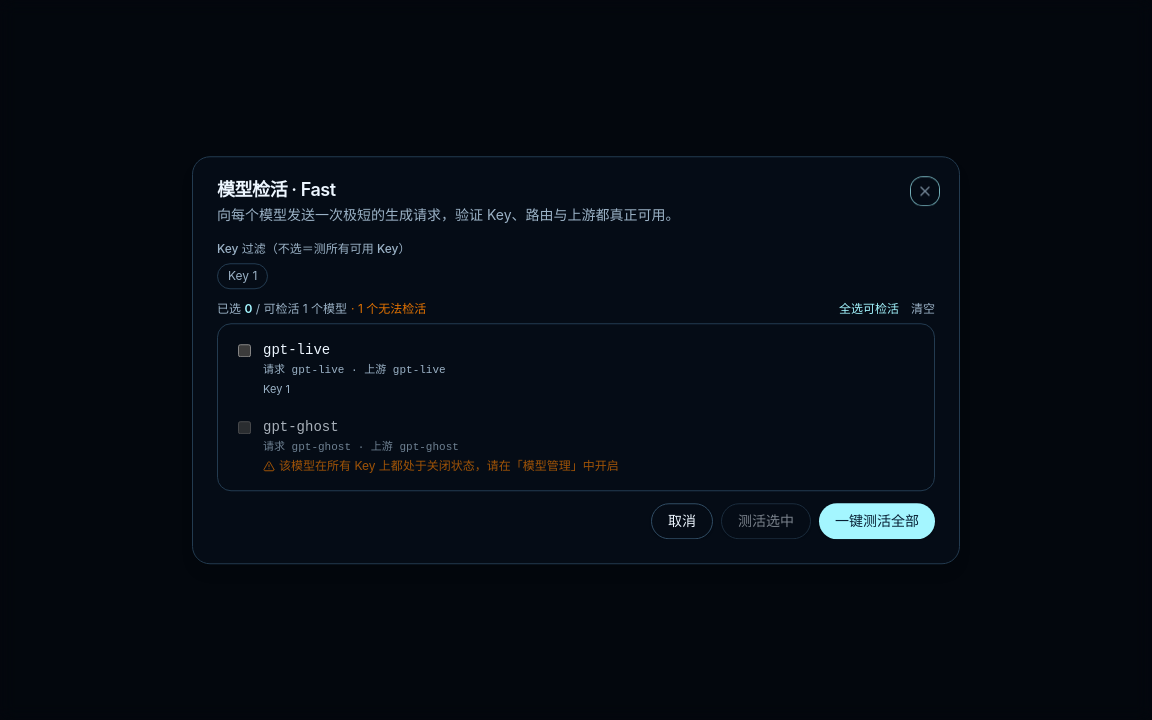
Test: HealthCheckDialog › only sends probeable routes and the keys that serve them
The width and height of the screenshot is (1152, 720).
Expected: the text "gpt-live" is shown, [263,340,330,360]
Click the button "Key 1" at (243, 276), box [217,263,268,289]
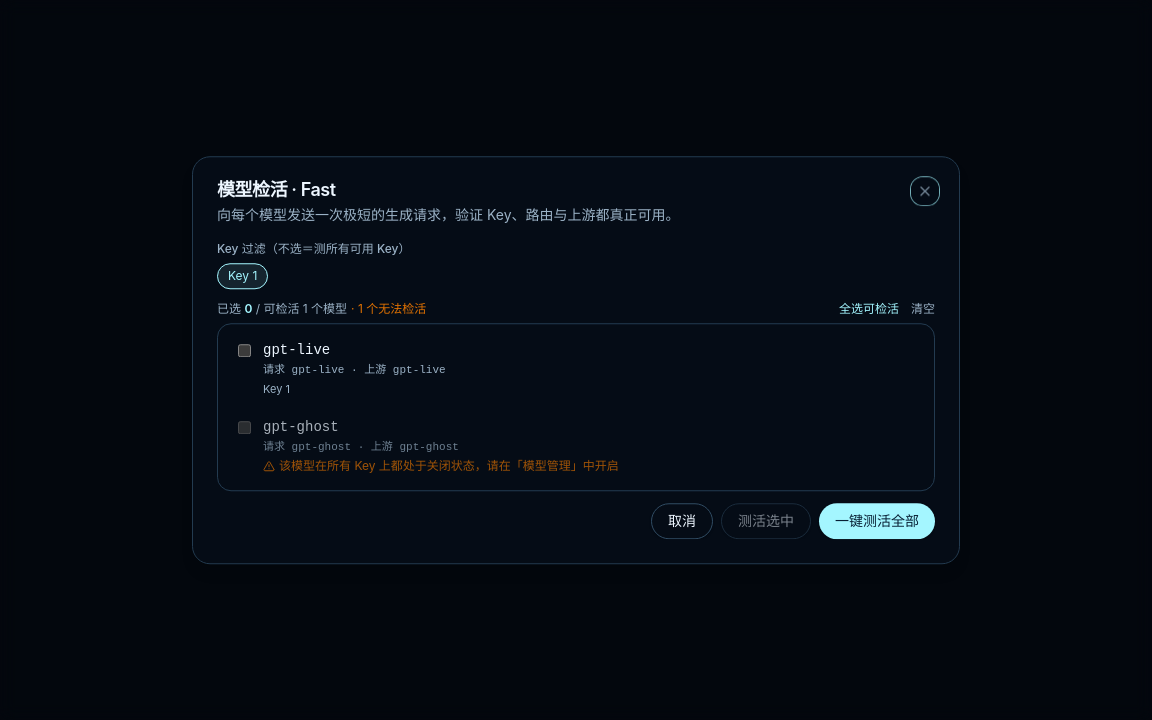
Click the button "全选可检活" at (869, 309), box [839,301,899,317]
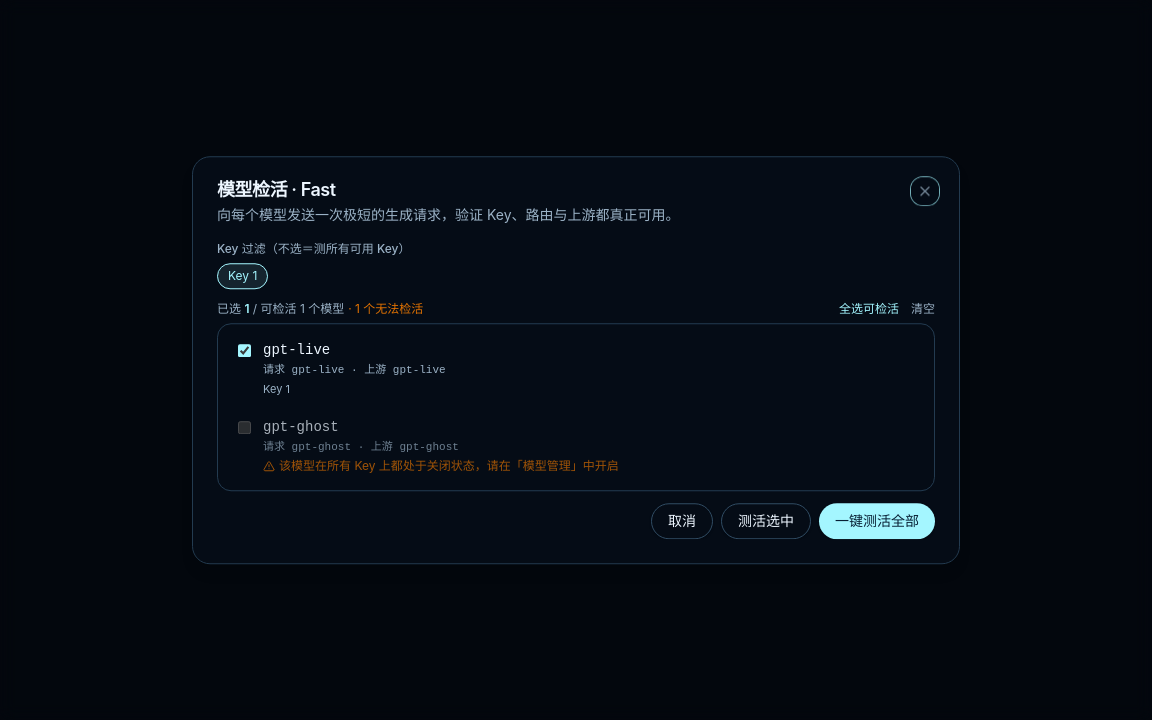
Click the button "测活选中" at (766, 521), box [721,503,811,539]
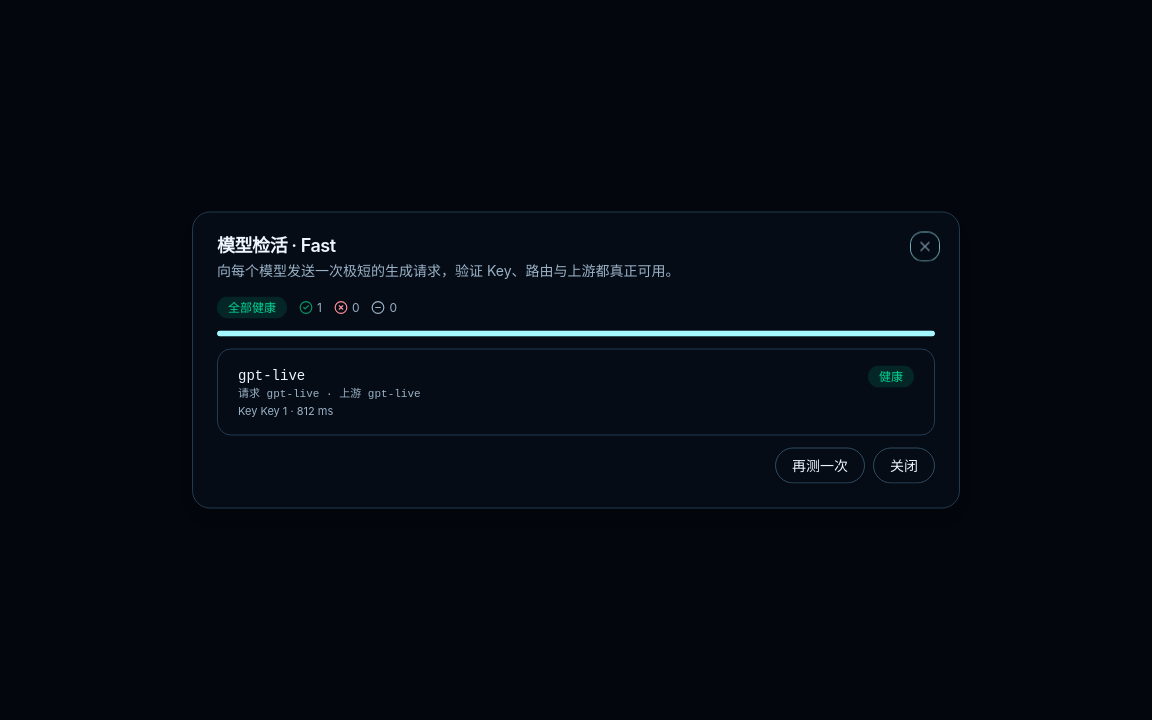
Now the text "全部健康" is shown, box [217,296,287,318]
